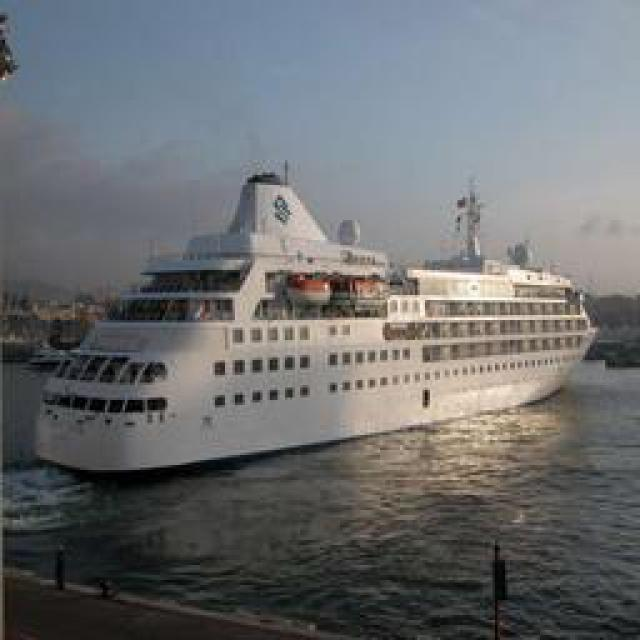Ship: (40, 164, 588, 487)
